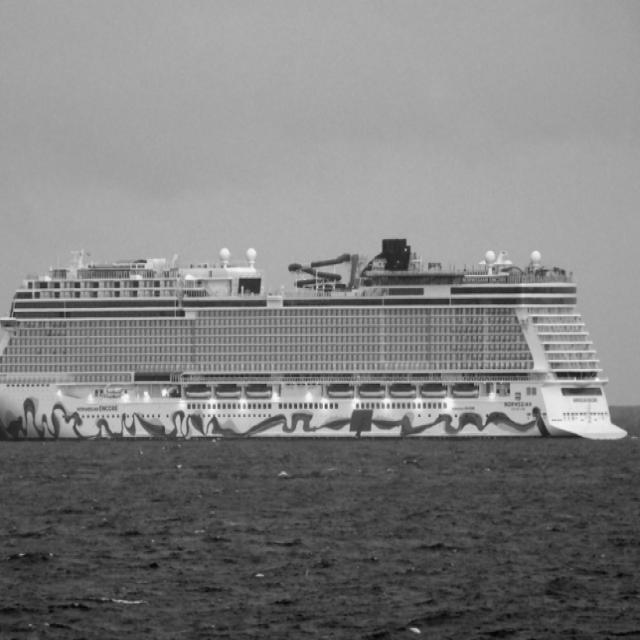cruises: (1, 227, 637, 455)
